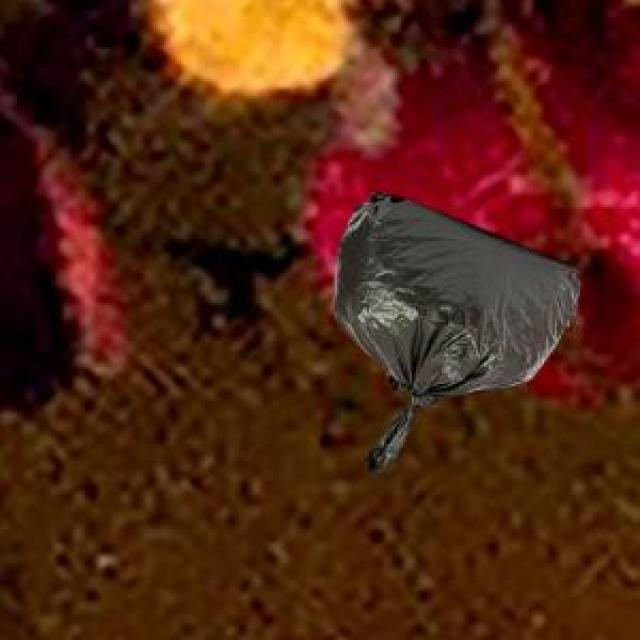Vinyl: (335, 195, 576, 476)
